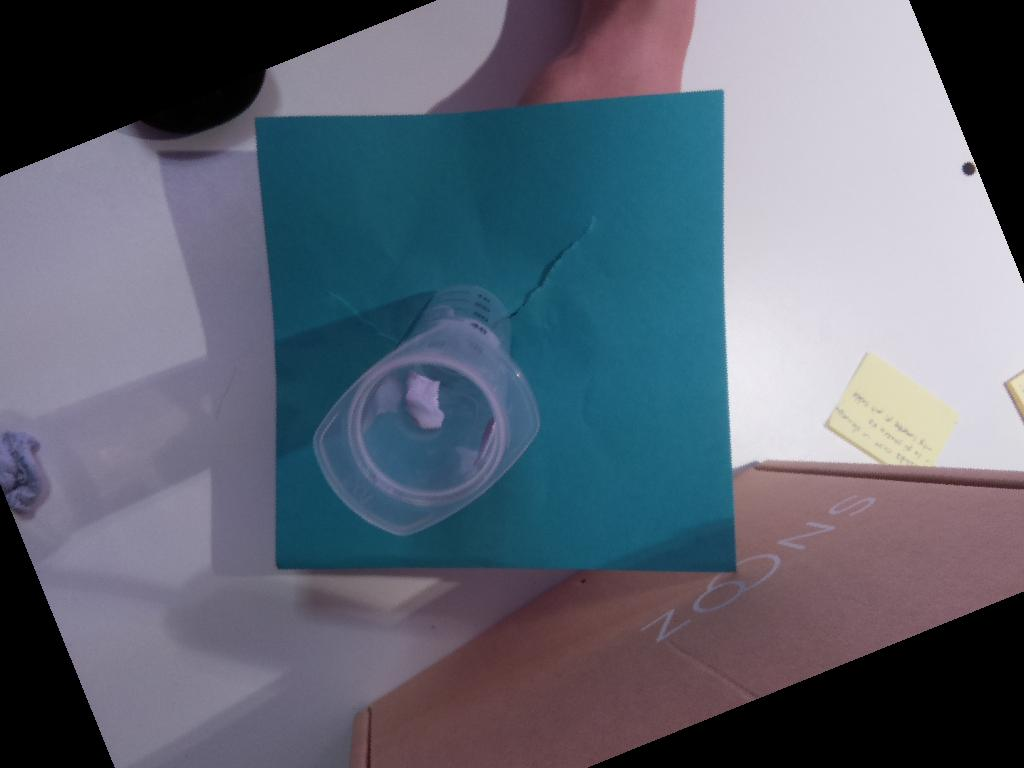dirty: (311, 318, 542, 534)
